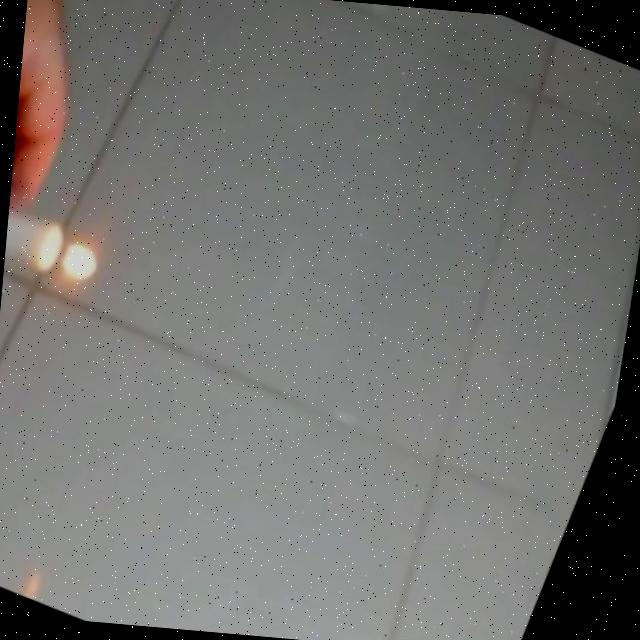fire: (54, 230, 114, 290)
